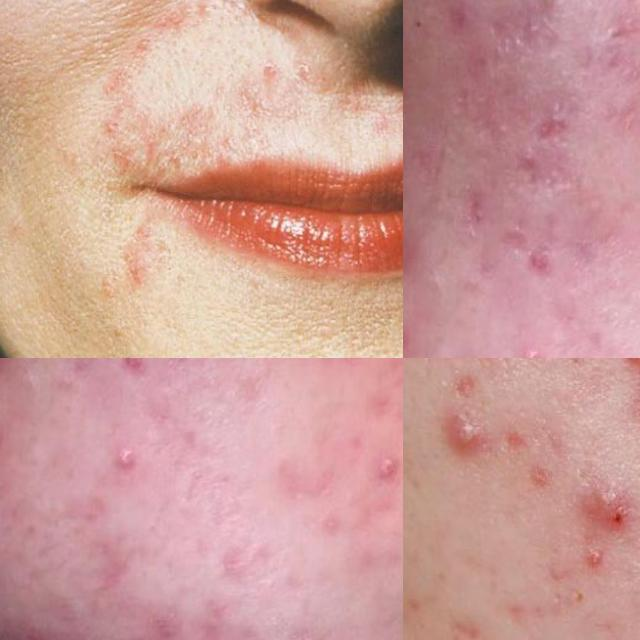acne_scars: (524, 90, 600, 152), (516, 232, 570, 278), (438, 606, 493, 640), (620, 358, 640, 425), (110, 358, 163, 377)
papule: (589, 481, 640, 542), (498, 142, 549, 192), (446, 0, 475, 47)
pustule: (425, 402, 515, 472), (98, 432, 149, 490), (503, 332, 555, 358), (369, 449, 403, 487)
